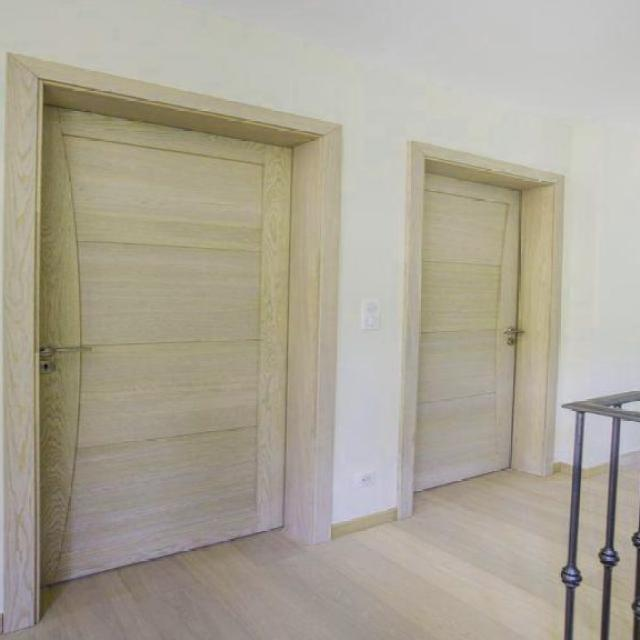door: (37, 103, 290, 586), (402, 152, 552, 502)
